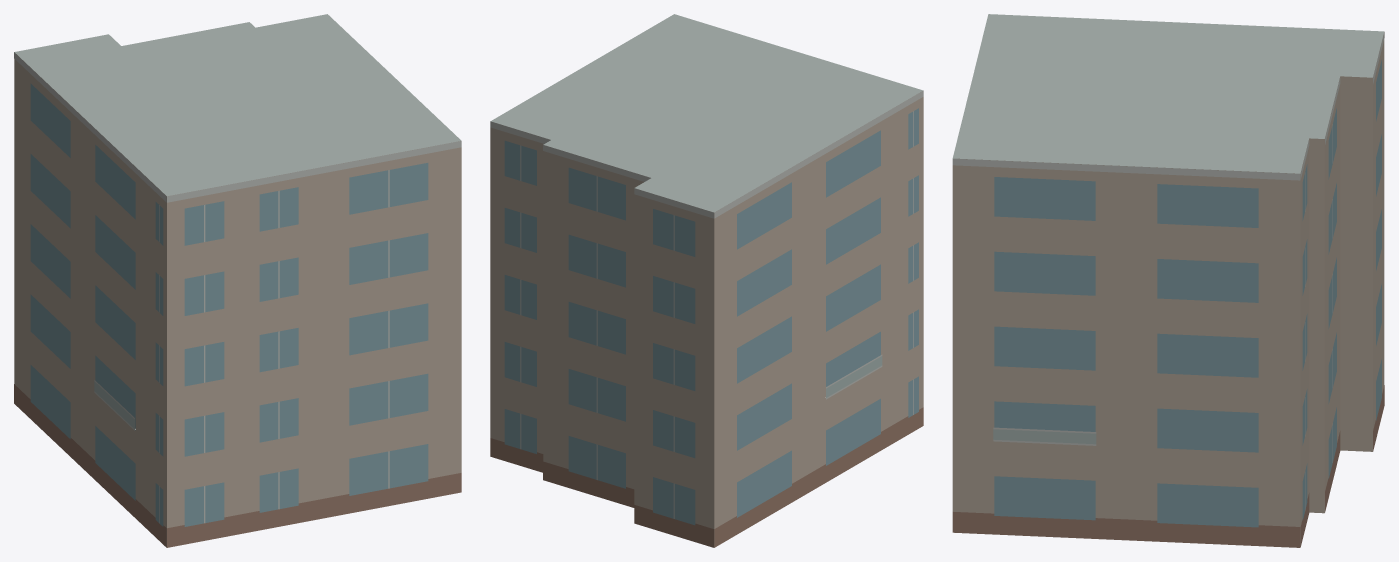
File: survey-upis-32919360.glb
3 views of the same model, side by side, from view 1: azimuth 30°, elevation 25°; view 2: azimuth 150°, elevation 25°; view 3: azimuth 270°, elevation 25° (orthographic). The views are drawn at different scales.
Parts seen in each view (by area): view 1: survey-upis-32919360.tmp; view 2: survey-upis-32919360.tmp; view 3: survey-upis-32919360.tmp.
Part boxes in pixels (box(x1,y1,x2,y2)): survey-upis-32919360.tmp: box(14, 14, 461, 547); survey-upis-32919360.tmp: box(490, 14, 923, 547); survey-upis-32919360.tmp: box(952, 14, 1384, 547).
Bounding box in the file's own units: 12.14 × 13.25 × 13.87.
